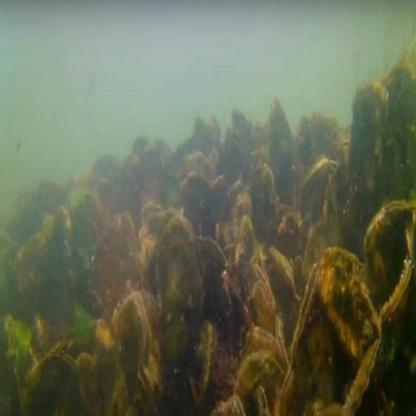Oyster- Indeterminate: (22, 346, 83, 416), (115, 291, 150, 385), (293, 260, 321, 363), (196, 233, 232, 305), (302, 159, 341, 209), (252, 261, 279, 316), (245, 326, 282, 360), (212, 386, 244, 416), (402, 219, 416, 278), (281, 362, 296, 416), (254, 384, 270, 416)
Oyster-Closed: (320, 243, 381, 365), (364, 200, 416, 301), (155, 219, 204, 316), (351, 82, 389, 182), (380, 257, 411, 362), (345, 334, 383, 416), (188, 311, 213, 404), (269, 246, 300, 296), (234, 212, 259, 271), (268, 92, 287, 145), (118, 216, 138, 254)
